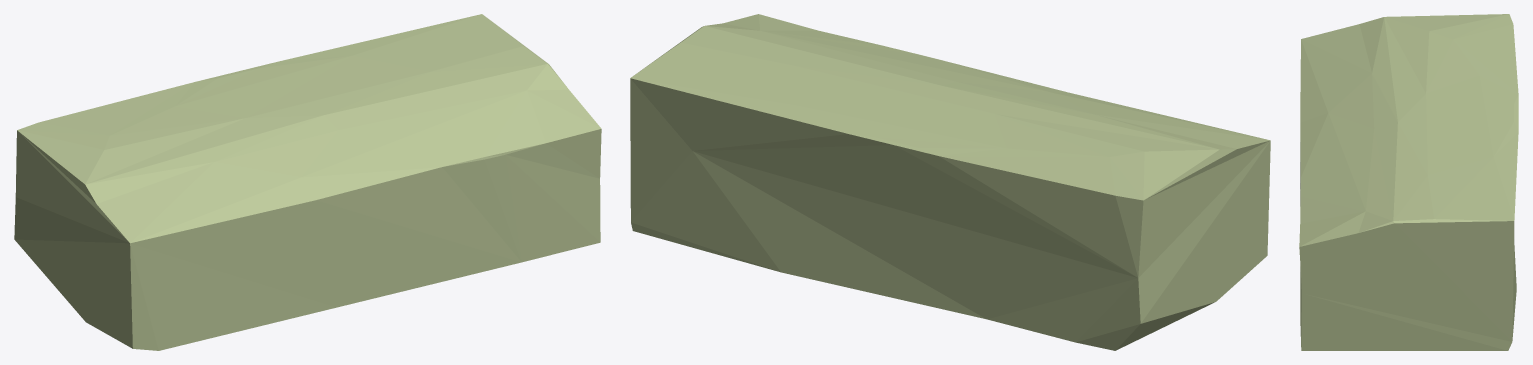
Rendered from ground_8.gltf.
The picture shows the model from 3 angles, left to right: view 1: azimuth 30°, elevation 25°; view 2: azimuth 150°, elevation 25°; view 3: azimuth 270°, elevation 25°; orthographic projection. The views are drawn at different scales.
Parts seen in each view (by area): view 1: o_ground_8; view 2: o_ground_8; view 3: o_ground_8.
Boxes of the visible parts, left/top/right/bottom form: o_ground_8: left=14, top=14, right=601, bottom=350; o_ground_8: left=630, top=14, right=1270, bottom=350; o_ground_8: left=1299, top=14, right=1518, bottom=350.
Bounding box in the file's own units: 10.53 × 3.09 × 4.67.
